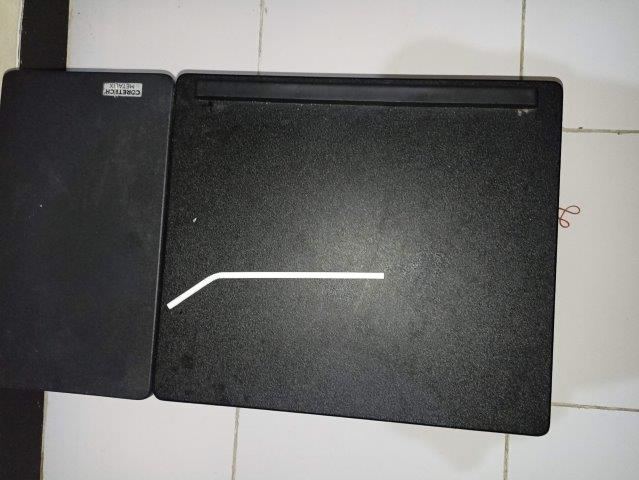karet: (559, 204, 582, 228)
sedotan: (167, 272, 384, 308)
